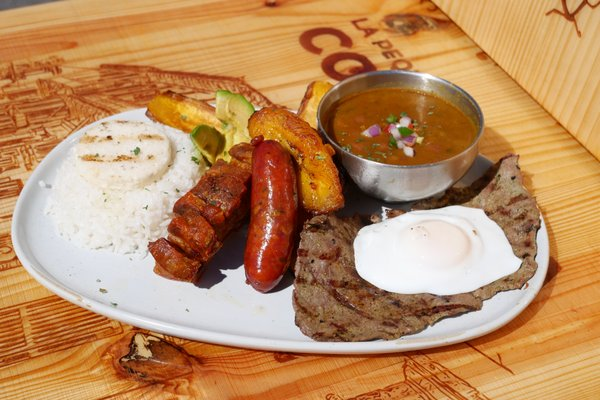soup: (292, 152, 541, 342)
sushi: (315, 69, 484, 201)
